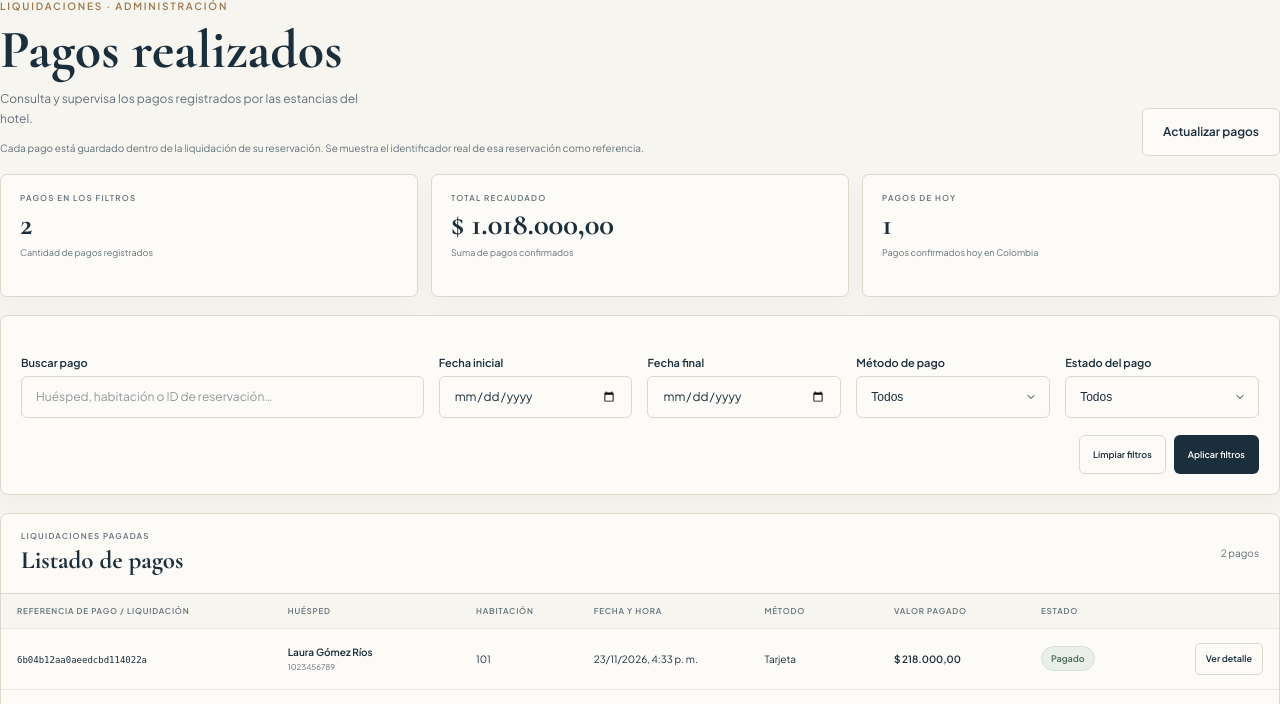
Scenario: PaymentsPage › muestra los cargos adicionales cuando la liquidación los tiene
Expected: the text "Laura Gómez Ríos" is shown, [288, 646, 373, 658]
Click the button "Ver detalle" in the row of "6b04b12aa0aeedcbd114022a".
click(1229, 659)  # box [1195, 643, 1263, 675]
(page scrolled)
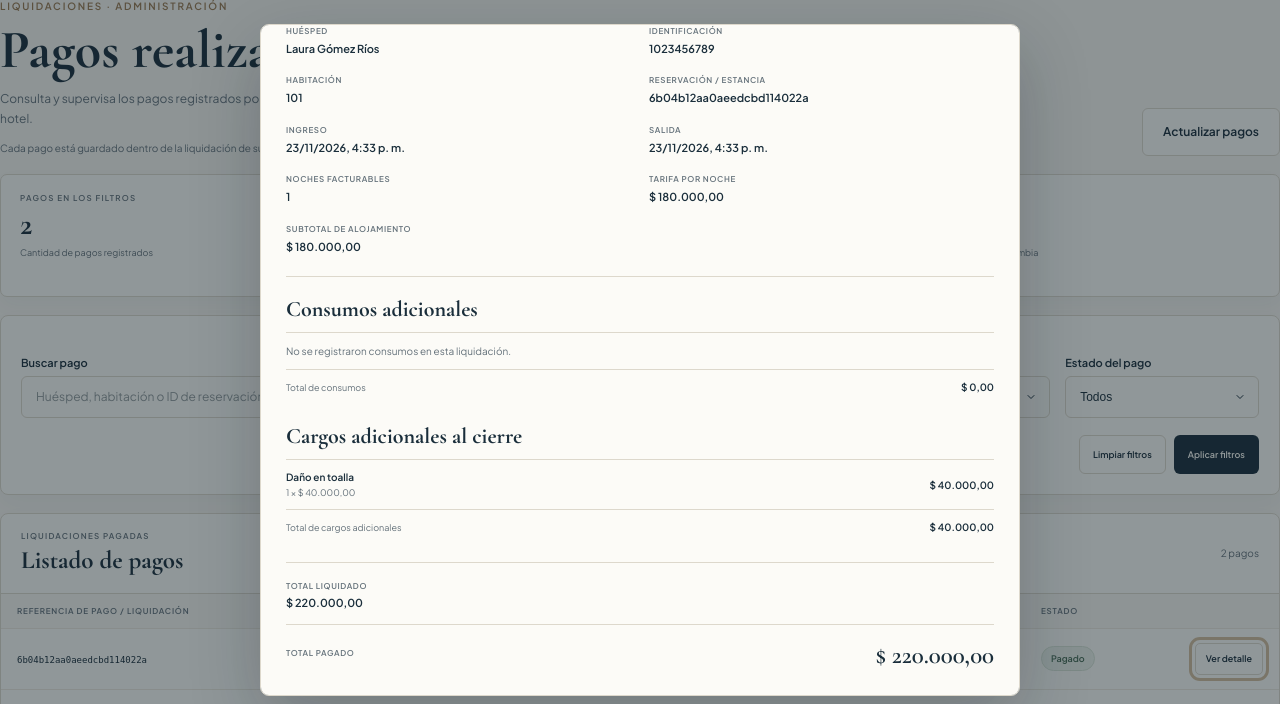
Expected: the text "No se registraron consumos en esta liquidación." is shown, [286, 332, 994, 369]
Expected: the text "Daño en toalla" is shown, [286, 471, 355, 483]
